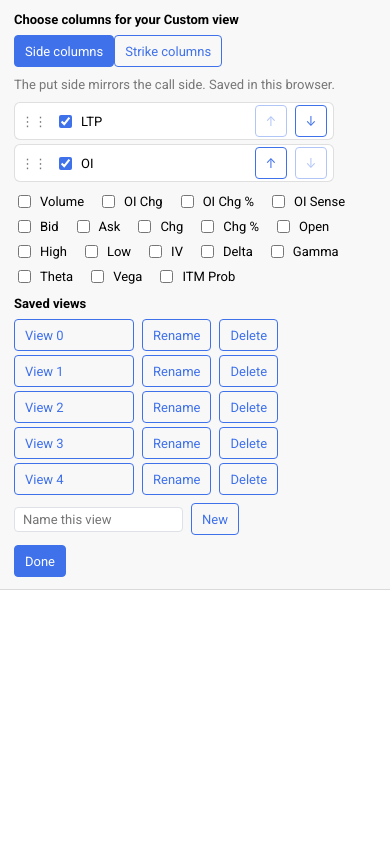
ColumnChooserComponent › rejects the 6th custom preset with the limit message
In the field with placeholder "Name this view": coordinates (98, 519) [14, 506, 183, 532], type "Sixth"
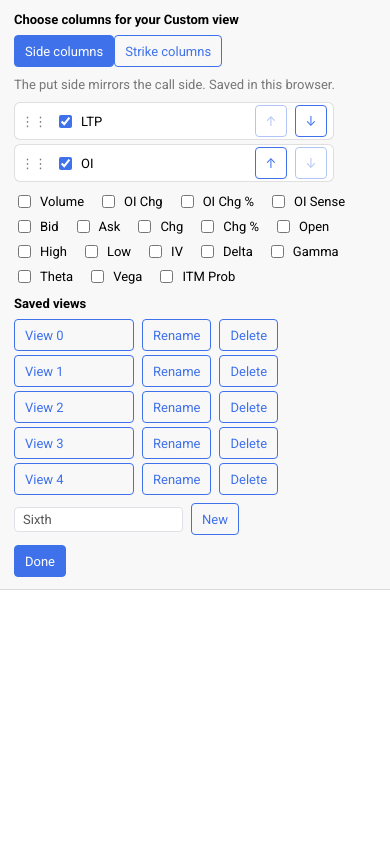
Click the button "New": coordinates (215, 519) [191, 503, 239, 535]
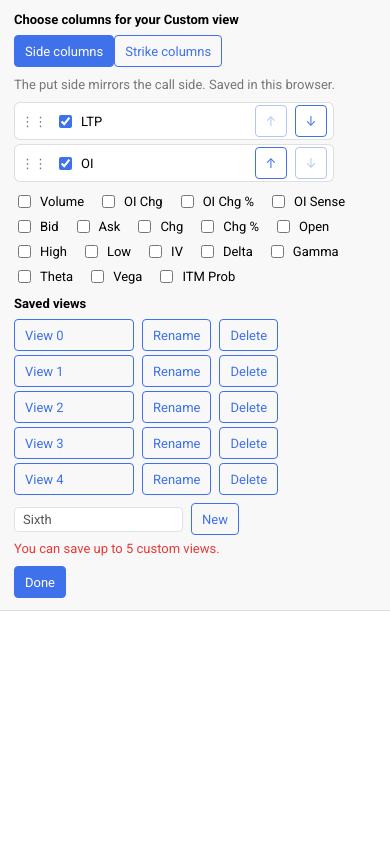
Expected: the text "You can save up to 5 custom views." is shown, [14, 541, 220, 556]
